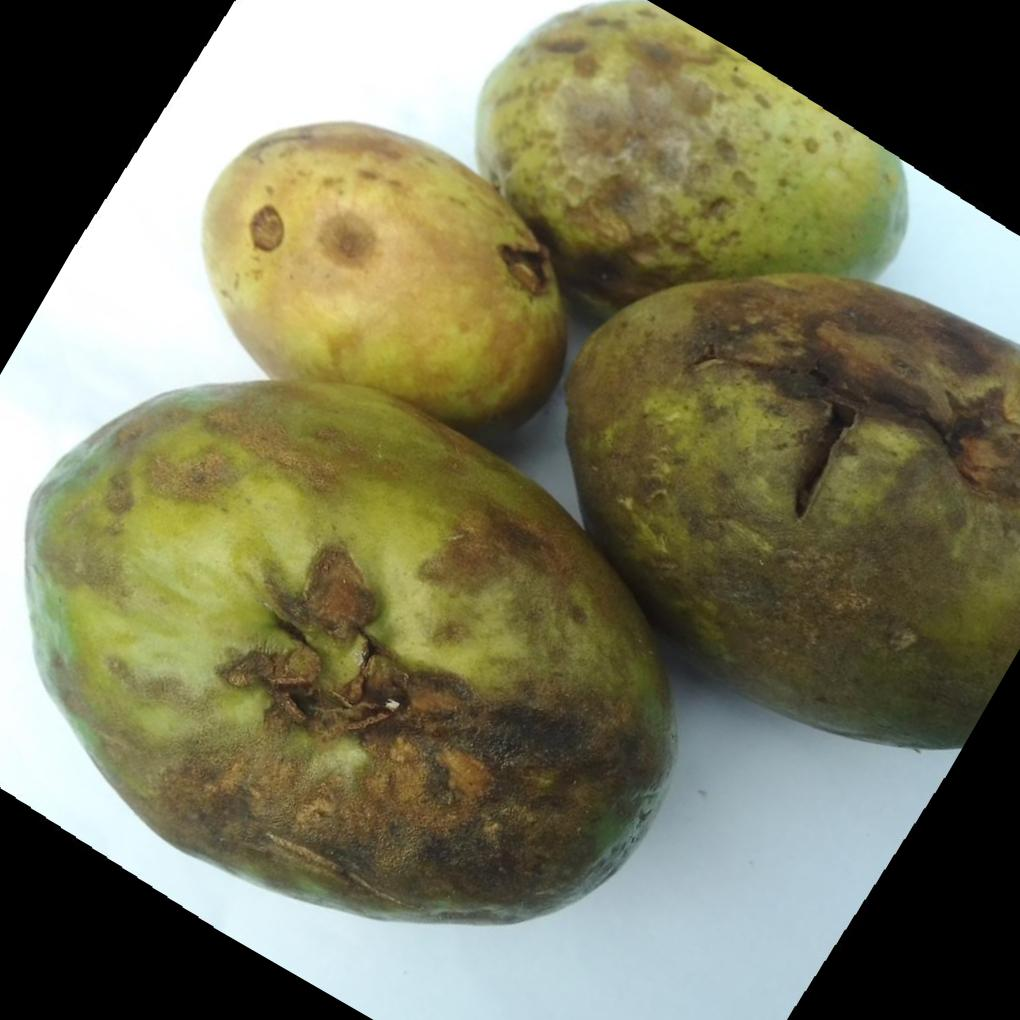FreshOrange: (19, 0, 1020, 929)
